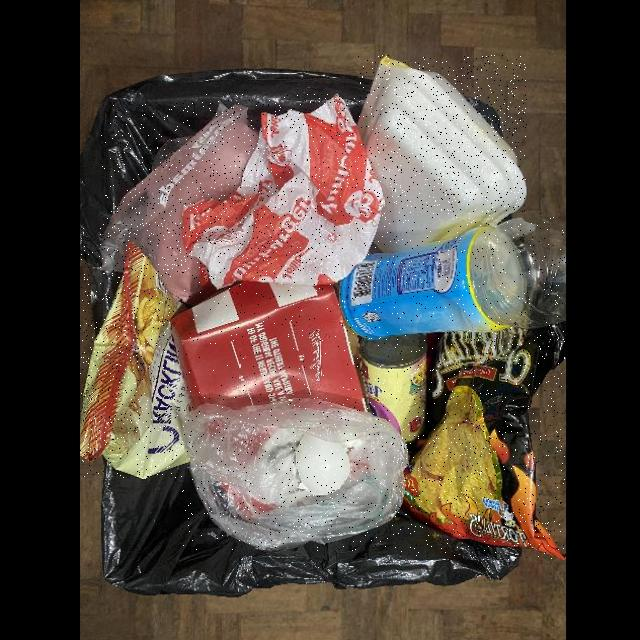biowaste: (293, 432, 352, 495)
metal: (359, 334, 428, 443)
paper: (181, 94, 384, 287), (170, 280, 368, 411)
plastic: (180, 397, 410, 550), (338, 213, 566, 339)
styrofoam: (358, 55, 527, 254)
wrapper: (400, 322, 565, 559), (100, 103, 259, 300), (80, 240, 190, 478)
